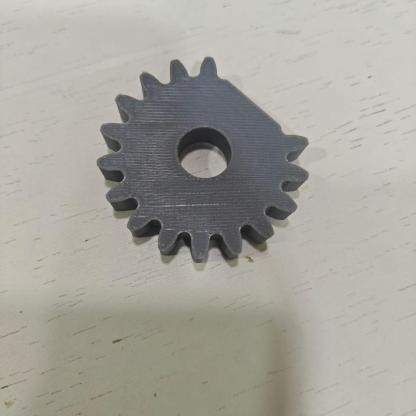defect: (193, 47, 317, 155)
gear: (67, 29, 366, 285)
